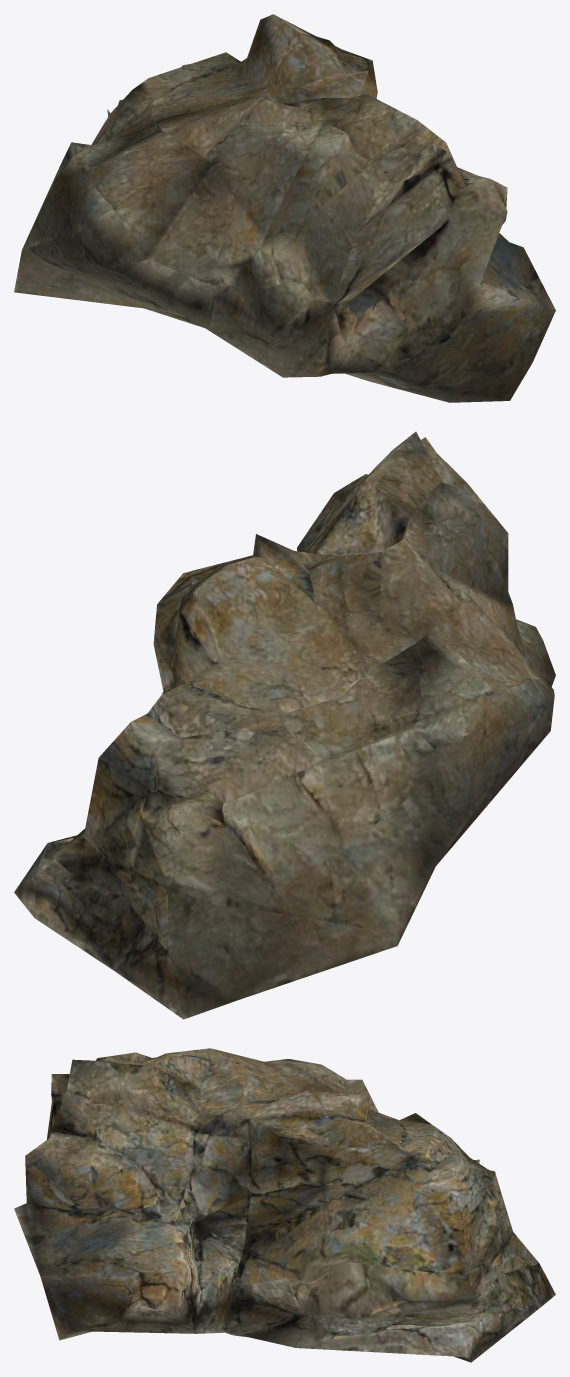
The model's file is boulder_01_lod1.glb.
3 views of the same model, one above another, from view 1: azimuth 30°, elevation 25°; view 2: azimuth 150°, elevation 25°; view 3: azimuth 270°, elevation 25° (orthographic). The views are drawn at different scales.
Visible parts, largest first — view 1: boulder_01; view 2: boulder_01; view 3: boulder_01.
Boxes of the visible parts, <box> form: boulder_01: <box>14,14,555,402</box>; boulder_01: <box>14,432,555,1019</box>; boulder_01: <box>14,1048,555,1362</box>.
Size of the model in its own units: 1.22 by 0.9765 by 1.81.
Materials: 1 (1 with a texture image).
